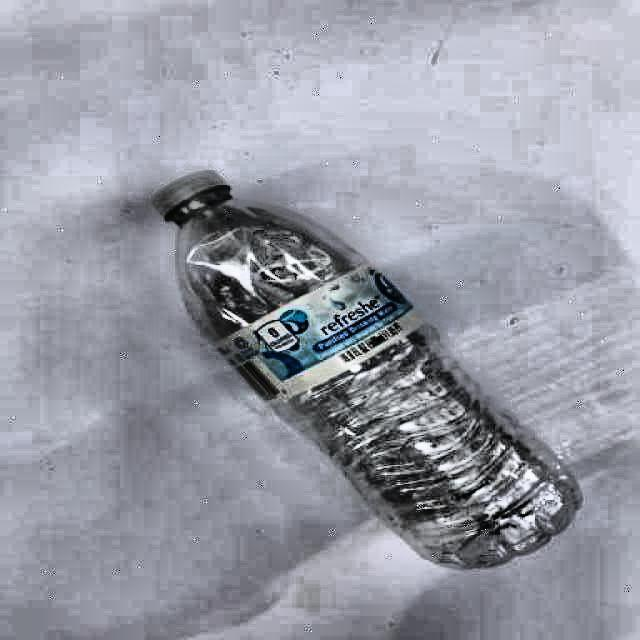plastic: (152, 171, 579, 567)
